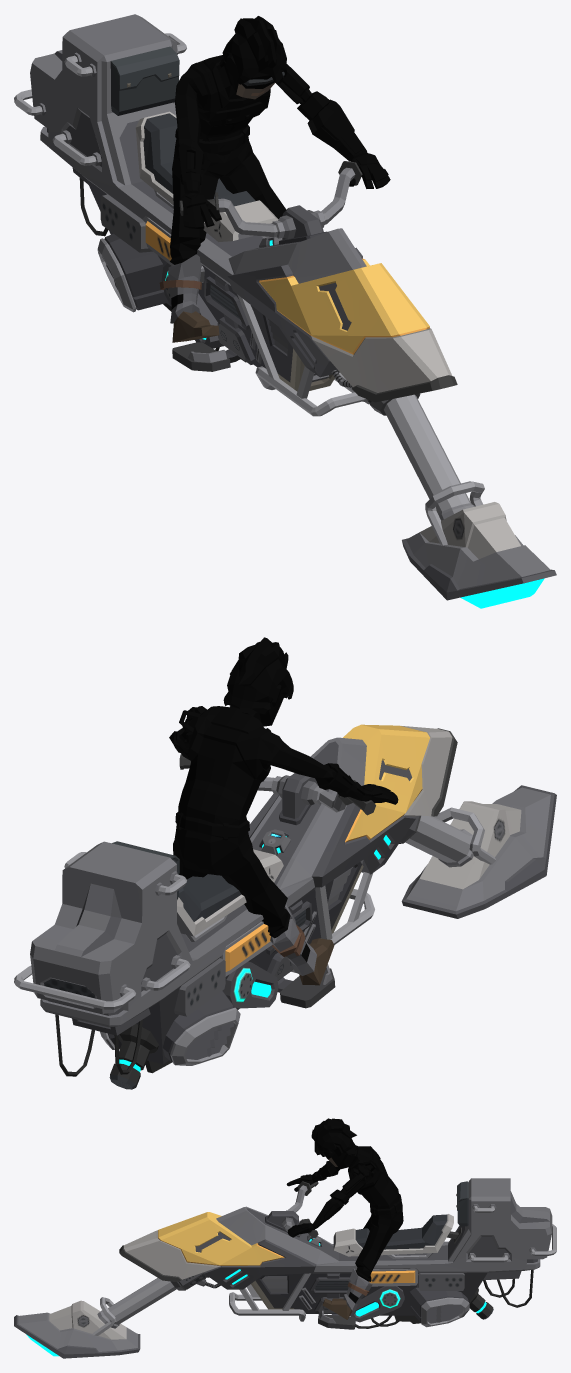
The model's file is avi-jetbike.glb.
3 views of the same model, one above another, from view 1: azimuth 30°, elevation 25°; view 2: azimuth 150°, elevation 25°; view 3: azimuth 270°, elevation 25° (orthographic). The views are drawn at different scales.
Visible parts, largest first — view 1: SM_Veh_Hover_Bike_02, Scifi_city:Character_Augmented_Male_01; view 2: SM_Veh_Hover_Bike_02, Scifi_city:Character_Augmented_Male_01; view 3: SM_Veh_Hover_Bike_02, Scifi_city:Character_Augmented_Male_01.
Part boxes in pixels (x1,y1,x2,y2): SM_Veh_Hover_Bike_02: (14, 14, 556, 608); Scifi_city:Character_Augmented_Male_01: (159, 16, 390, 342); SM_Veh_Hover_Bike_02: (14, 724, 556, 1089); Scifi_city:Character_Augmented_Male_01: (169, 637, 398, 985); SM_Veh_Hover_Bike_02: (14, 1178, 556, 1358); Scifi_city:Character_Augmented_Male_01: (286, 1118, 403, 1319).
Bounding box in the file's own units: 1.09 × 2.08 × 4.41.
Materials: 2 (2 with a texture image).
